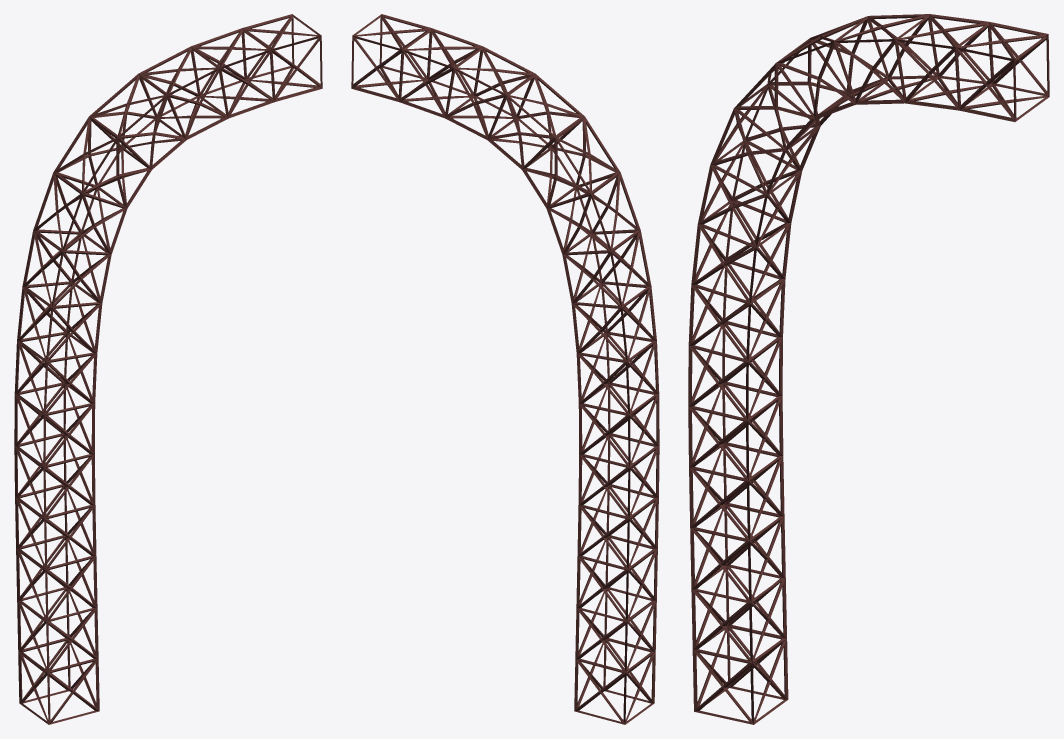
File: curved_scaffold.glb
The picture shows the model from 3 angles, left to right: view 1: azimuth 30°, elevation 25°; view 2: azimuth 150°, elevation 25°; view 3: azimuth 330°, elevation 25°; orthographic projection. The views are drawn at different scales.
Parts seen in each view (by area): view 1: scaffold; view 2: scaffold; view 3: scaffold.
Part boxes in pixels (x1,y1,x2,y2): scaffold: (14,14,322,724); scaffold: (351,14,659,724); scaffold: (688,14,1049,724).
Size of the model in its own units: 11.39 by 24.28 by 2.12.
